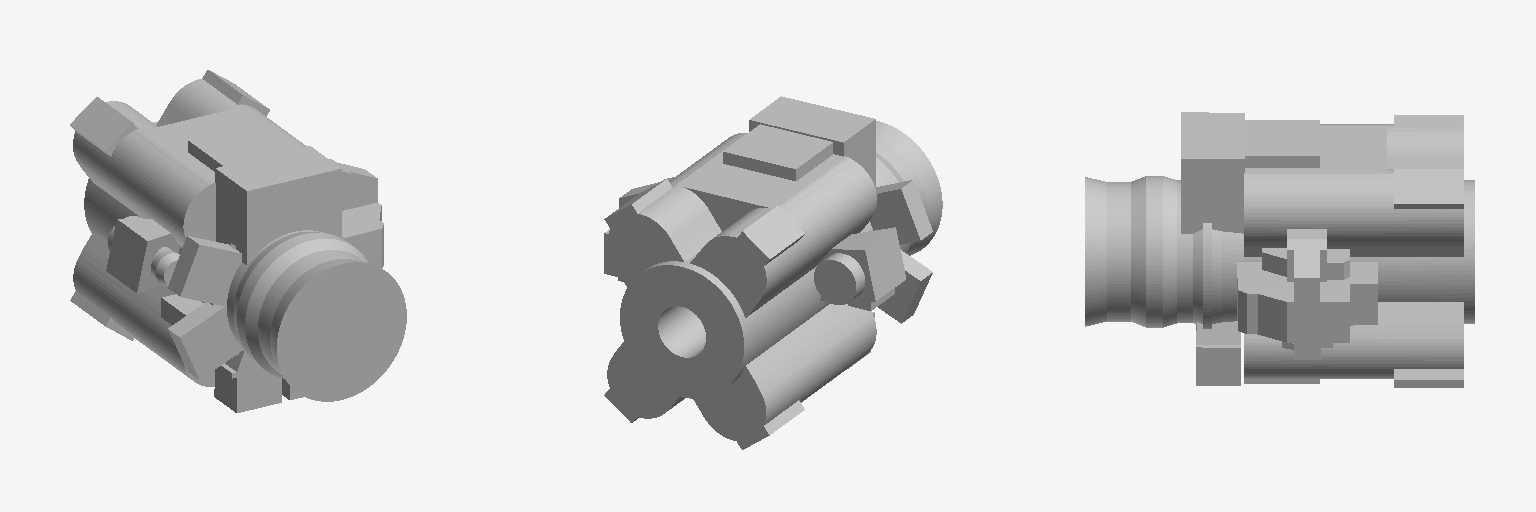
3 renders of one model, left to right at view 1: azimuth 30°, elevation 25°; view 2: azimuth 150°, elevation 25°; view 3: azimuth 270°, elevation 25°, orthographic.
Visible parts, largest first — view 1: base_link; view 2: base_link; view 3: base_link.
Part boxes in pixels (bbox=[...]): base_link: bbox=[70, 70, 406, 412]; base_link: bbox=[604, 96, 942, 449]; base_link: bbox=[1085, 112, 1474, 387].
Size of the model in its own units: 83.24 by 71.07 by 109.